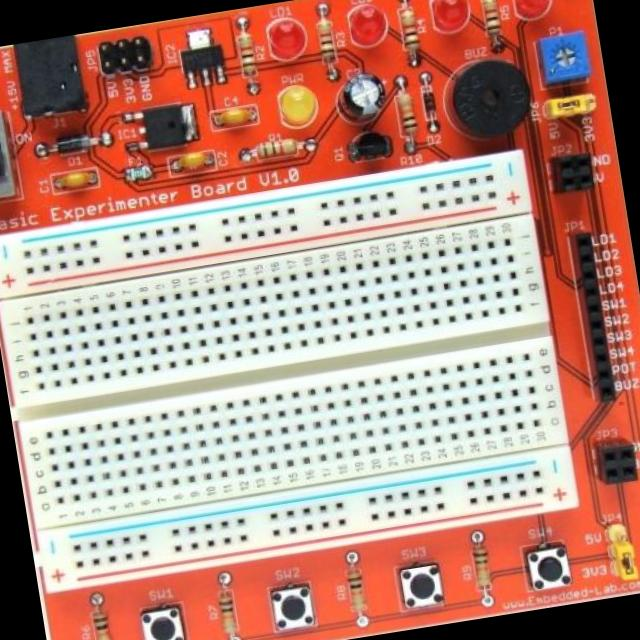IC: (122, 100, 198, 156), (176, 24, 228, 86)
LED: (274, 80, 320, 130), (344, 2, 388, 48), (265, 16, 307, 60), (428, 0, 473, 32), (510, 0, 554, 20)
capacitor: (342, 69, 388, 124), (48, 163, 104, 197), (208, 101, 260, 136), (168, 149, 220, 179)
connector: (0, 211, 551, 413), (16, 333, 567, 527), (31, 444, 580, 594), (0, 151, 533, 295), (571, 230, 618, 403), (15, 35, 90, 122), (95, 36, 158, 79), (604, 522, 640, 584), (596, 438, 638, 486), (552, 154, 592, 192), (546, 95, 595, 124)
diode: (37, 130, 109, 162), (418, 79, 444, 129)
potentiometer: (539, 30, 593, 84)
resistor: (306, 6, 342, 73), (230, 19, 264, 88), (390, 76, 420, 146), (247, 136, 315, 166), (216, 576, 242, 640), (342, 557, 369, 615), (470, 536, 494, 596), (396, 0, 423, 50), (479, 0, 509, 40), (89, 596, 115, 640)
